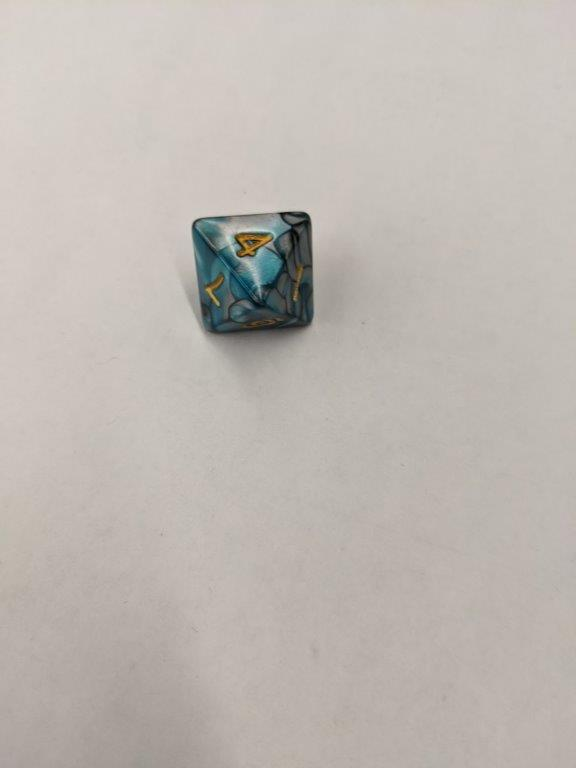d8-4: (192, 213, 316, 335)
